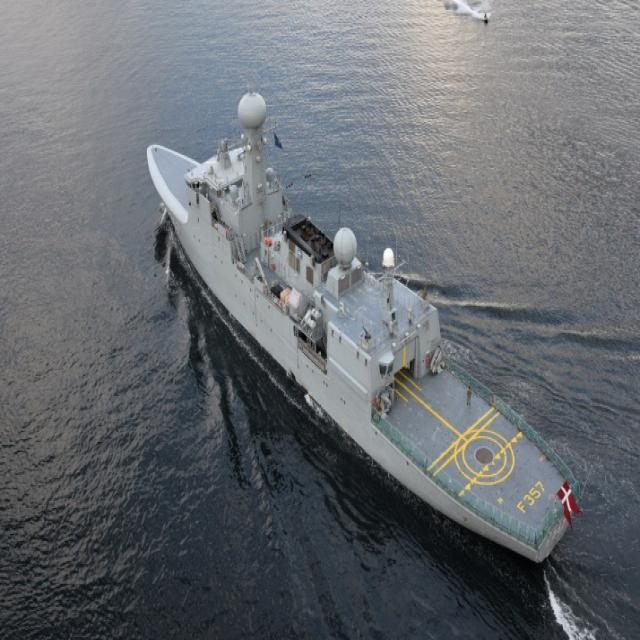Fragata: (143, 77, 600, 578)
